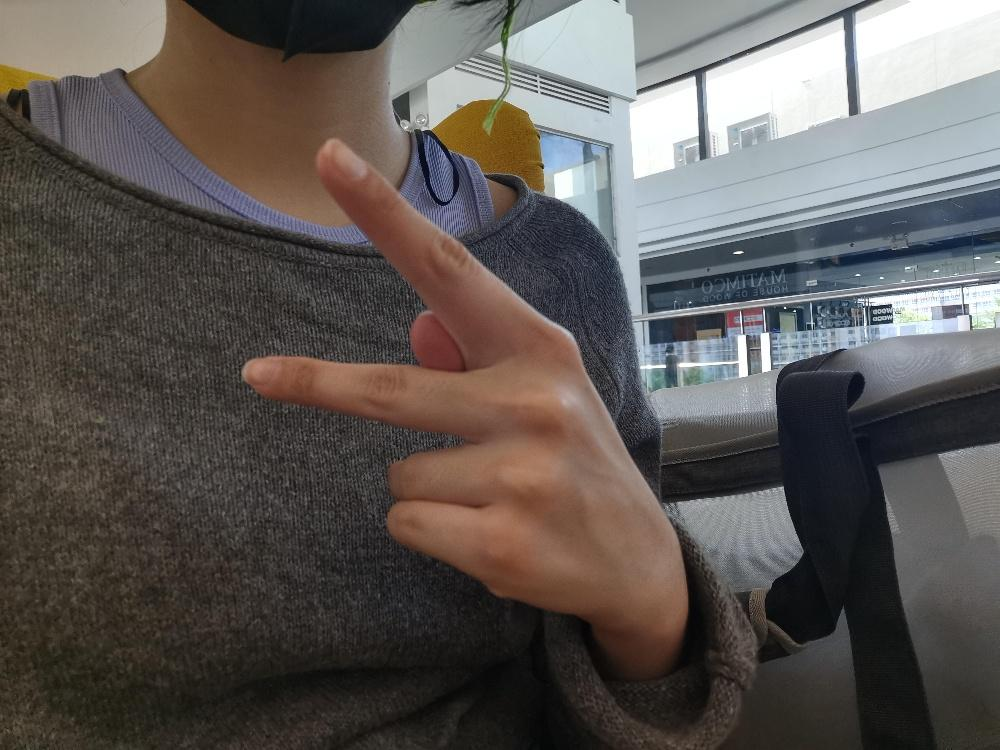k: (238, 133, 687, 633)
